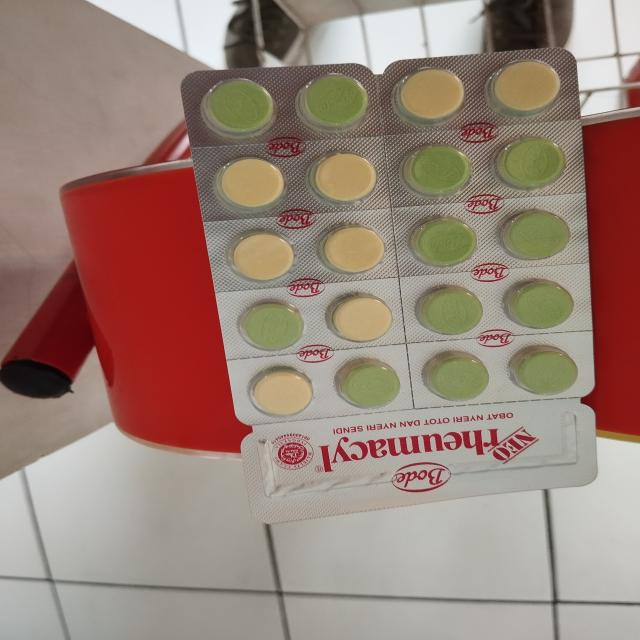B3: (181, 45, 599, 526)
